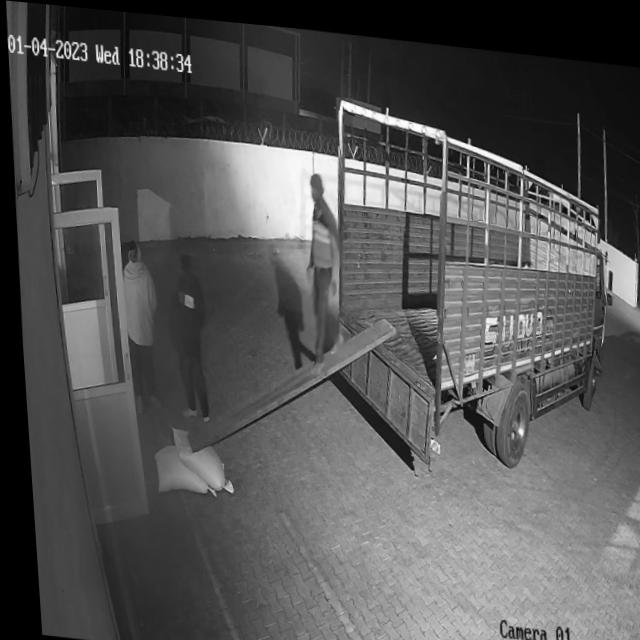sack: (163, 422, 228, 488), (146, 438, 211, 495)
